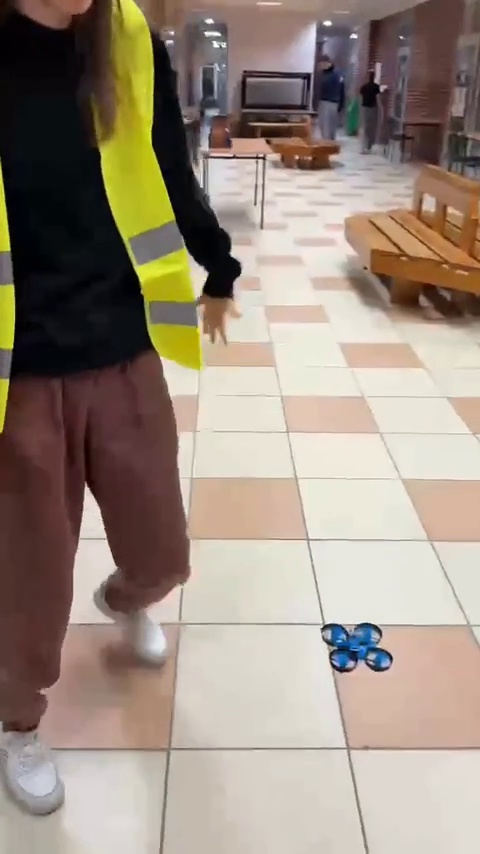drone: (324, 625, 391, 676)
no vest: (305, 55, 343, 145), (355, 75, 389, 158)
vest: (5, 2, 204, 814)
